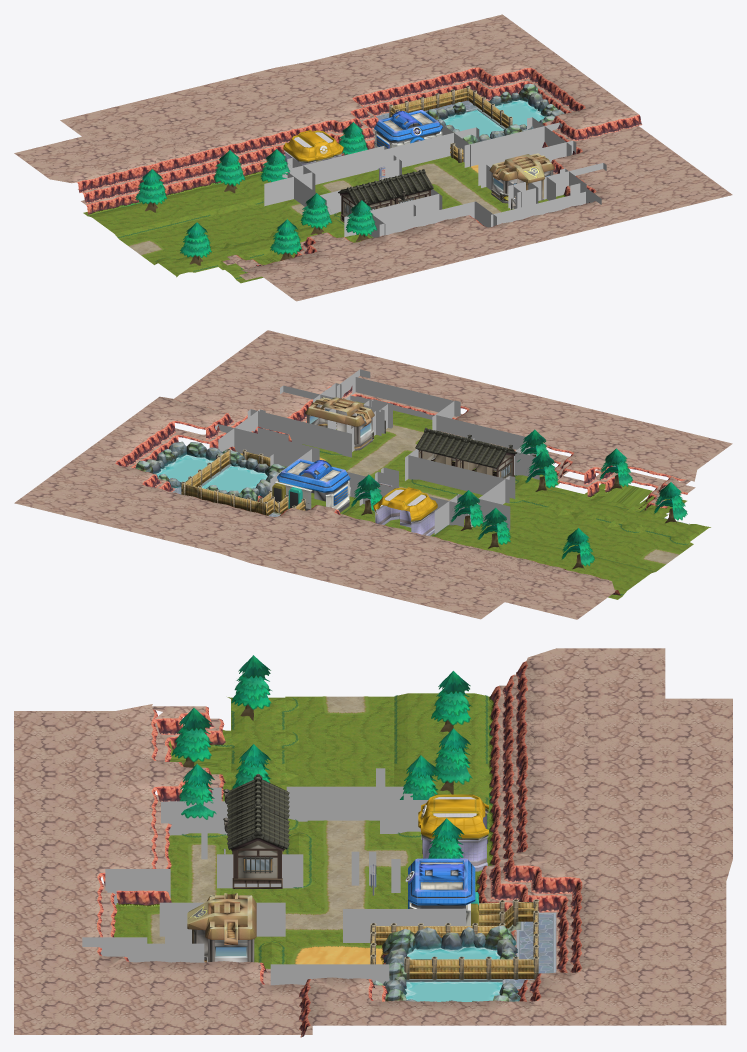
The model's file is Town.glb.
3 views of the same model, one above another, from view 1: azimuth 30°, elevation 25°; view 2: azimuth 150°, elevation 25°; view 3: azimuth 270°, elevation 25° (orthographic). The views are drawn at different scales.
Visible parts, largest first — view 1: weedCopy.001, COLL_All10, COLL_All13, COLL_All28, COLL_All6, COLL_All5, COLL_All21, COLL_All14, COLL_All22, COLL_All23; view 2: weedCopy.001, COLL_All23, COLL_All20, COLL_All5, COLL_All10, COLL_All6, COLL_All13, COLL_All16, COLL_All1, COLL_All28; view 3: weedCopy.001, COLL_All16, COLL_All11, COLL_All1, COLL_All27, COLL_All2, COLL_All15, COLL_All3, COLL_All4, COLL_All7, COLL_All24.
Part boxes in pixels (x1=…): weedCopy.001: x1=14, y1=14, x2=732, y2=301; COLL_All10: x1=464, y1=122, x2=562, y2=167; COLL_All13: x1=289, y1=146, x2=387, y2=184; COLL_All28: x1=381, y1=127, x2=479, y2=167; COLL_All6: x1=379, y1=201, x2=477, y2=236; COLL_All5: x1=491, y1=191, x2=588, y2=226; COLL_All21: x1=344, y1=194, x2=442, y2=237; COLL_All14: x1=264, y1=172, x2=315, y2=206; COLL_All22: x1=508, y1=163, x2=606, y2=208; COLL_All23: x1=478, y1=140, x2=576, y2=185; weedCopy.001: x1=14, y1=330, x2=732, y2=619; COLL_All23: x1=247, y1=409, x2=351, y2=457; COLL_All20: x1=405, y1=455, x2=509, y2=503; COLL_All5: x1=352, y1=377, x2=456, y2=419; COLL_All10: x1=215, y1=424, x2=319, y2=460; COLL_All6: x1=433, y1=415, x2=536, y2=454; COLL_All13: x1=359, y1=484, x2=463, y2=526; COLL_All16: x1=468, y1=476, x2=515, y2=526; COLL_All1: x1=218, y1=409, x2=265, y2=451; COLL_All28: x1=270, y1=454, x2=374, y2=497; weedCopy.001: x1=14, y1=648, x2=732, y2=1037; COLL_All16: x1=286, y1=786, x2=404, y2=820; COLL_All11: x1=352, y1=909, x2=467, y2=942; COLL_All1: x1=270, y1=964, x2=389, y2=985; COLL_All27: x1=217, y1=854, x2=303, y2=888; COLL_All2: x1=168, y1=801, x2=227, y2=835; COLL_All15: x1=380, y1=800, x2=427, y2=833; COLL_All3: x1=105, y1=869, x2=170, y2=902; COLL_All4: x1=139, y1=943, x2=204, y2=962; COLL_All7: x1=82, y1=937, x2=147, y2=962; COLL_All24: x1=192, y1=902, x2=276, y2=936.
Bounding box in the file's own units: 190 × 15.71 × 153.
Materials: 49 (49 with a texture image).
